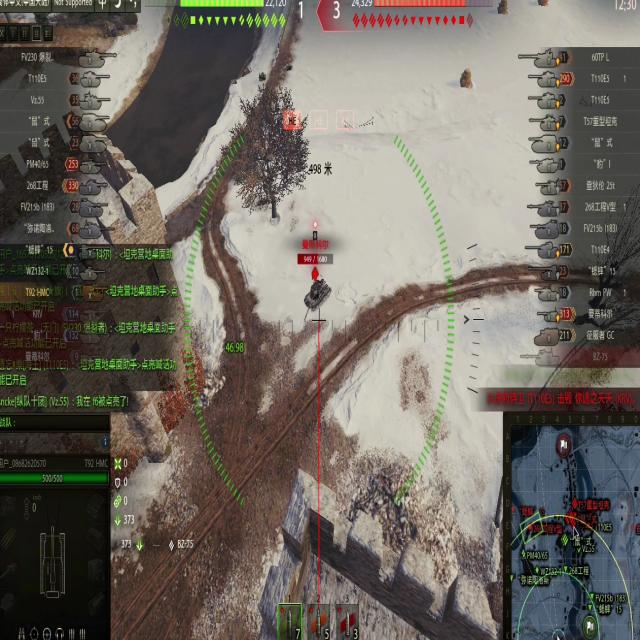tank: (298, 257, 330, 317)
